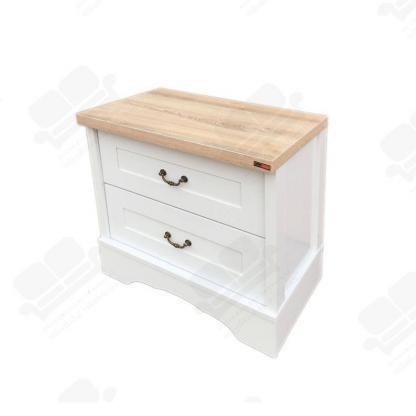Nightstand: (91, 87, 322, 345)
